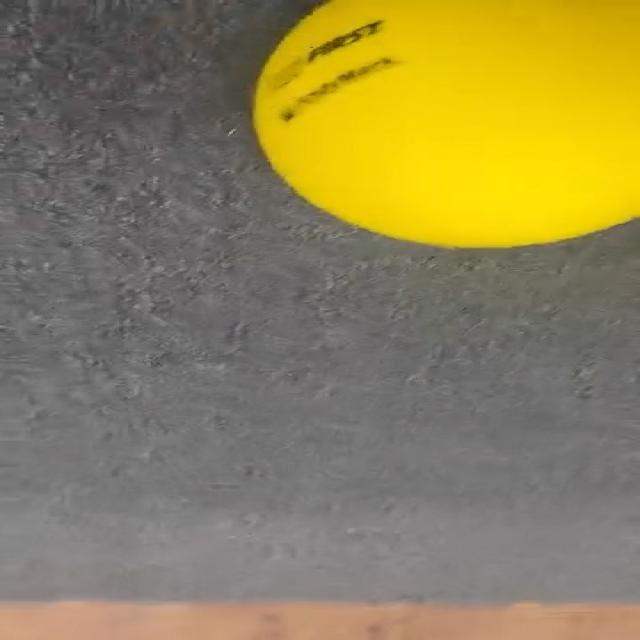Fuels: (250, 0, 640, 249)
